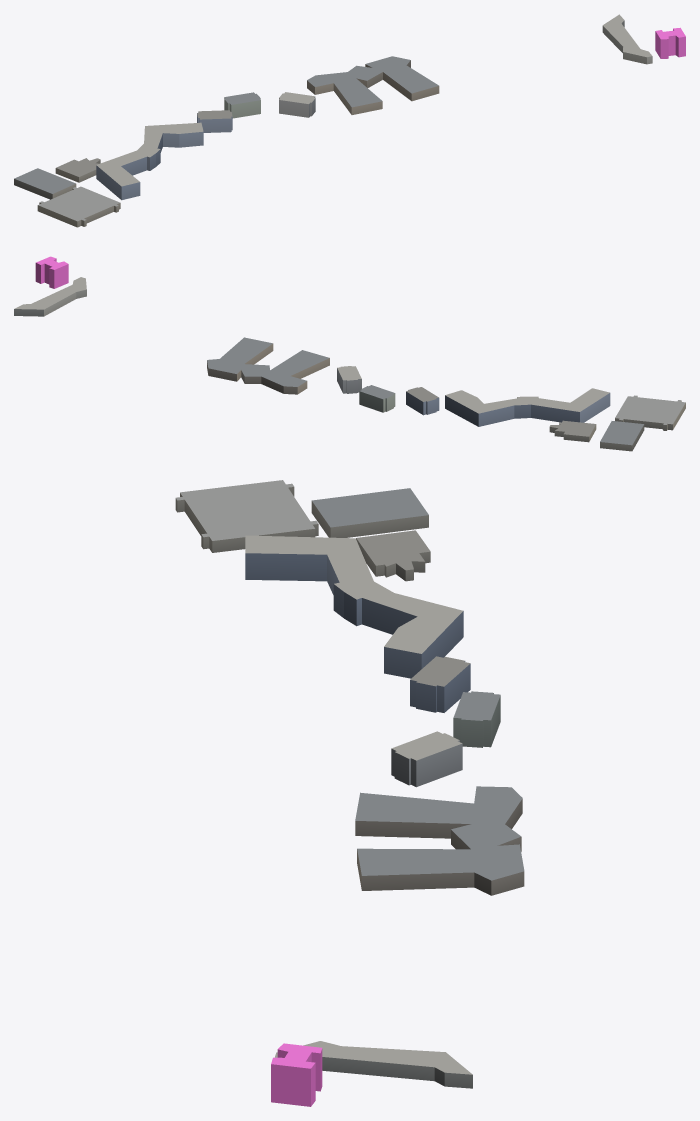
File: bld_5_6.fbx
3 renders of one model, top to bottom at view 1: azimuth 30°, elevation 25°; view 2: azimuth 150°, elevation 25°; view 3: azimuth 270°, elevation 25°, orthographic. The views are drawn at different scales.
Visible parts, largest first — view 1: bld_5_6_LOD0, bld_5_6_COL; view 2: bld_5_6_LOD0, bld_5_6_COL; view 3: bld_5_6_LOD0, bld_5_6_COL.
Boxes of the visible parts, x1,y1,x2,y2 form: bld_5_6_LOD0: (14, 14, 652, 227); bld_5_6_COL: (655, 27, 685, 58); bld_5_6_LOD0: (14, 277, 685, 451); bld_5_6_COL: (35, 256, 68, 288); bld_5_6_LOD0: (175, 480, 524, 1088); bld_5_6_COL: (271, 1043, 322, 1106).
Size of what is drawn, in the model's own units: 1164 by 33.69 by 279.
